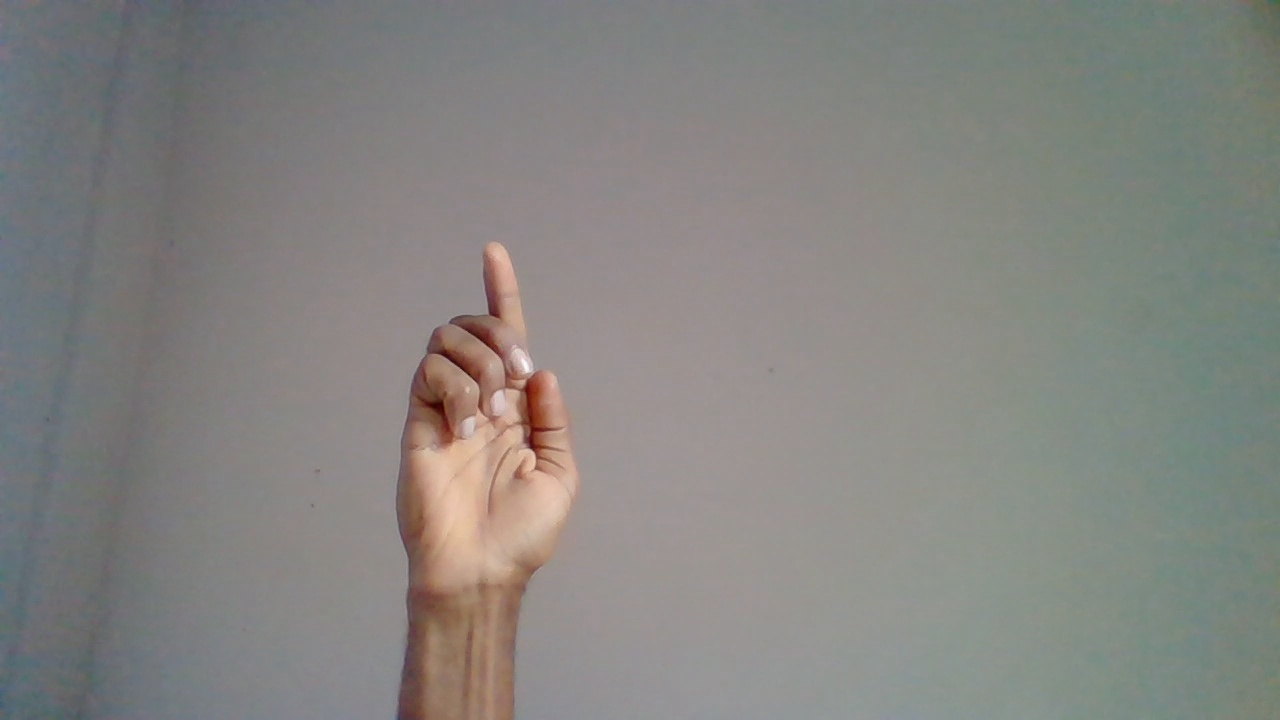qe: (391, 240, 583, 693)
